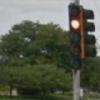traffic lights: (68, 4, 84, 72), (83, 8, 97, 60)
